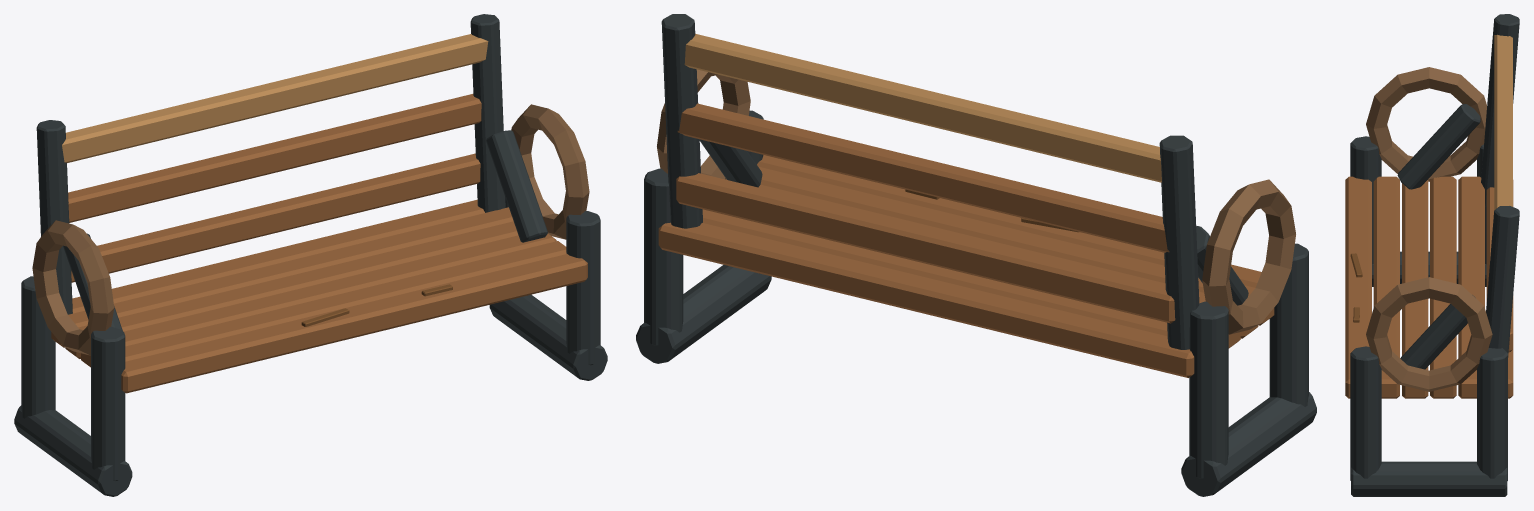
Rendered from runtime.glb.
3 renders of one model, left to right at view 1: azimuth 30°, elevation 25°; view 2: azimuth 150°, elevation 25°; view 3: azimuth 270°, elevation 25°, orthographic. The views are drawn at different scales.
Parts seen in each view (by area): view 1: eiffel-historic-bench-v05_nocol; view 2: eiffel-historic-bench-v05_nocol; view 3: eiffel-historic-bench-v05_nocol.
Boxes of the visible parts, bbox=[...] form: eiffel-historic-bench-v05_nocol: bbox=[14, 14, 607, 496]; eiffel-historic-bench-v05_nocol: bbox=[636, 14, 1316, 496]; eiffel-historic-bench-v05_nocol: bbox=[1345, 14, 1519, 496].
Size of the model in its own units: 2.12 by 1.22 by 0.6938.
